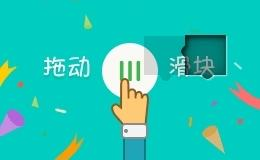target: (164, 15, 206, 55)
